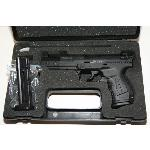Pistol: (40, 51, 134, 109)
